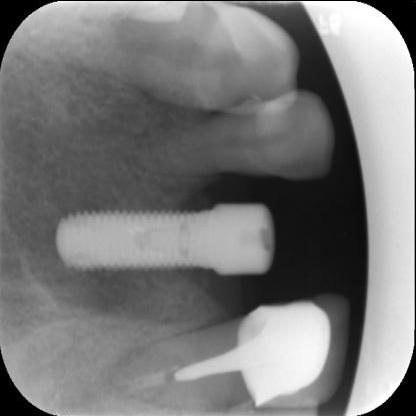Bego: (57, 179, 276, 300)
